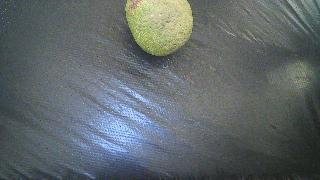DESECHO: (125, 0, 193, 56)
